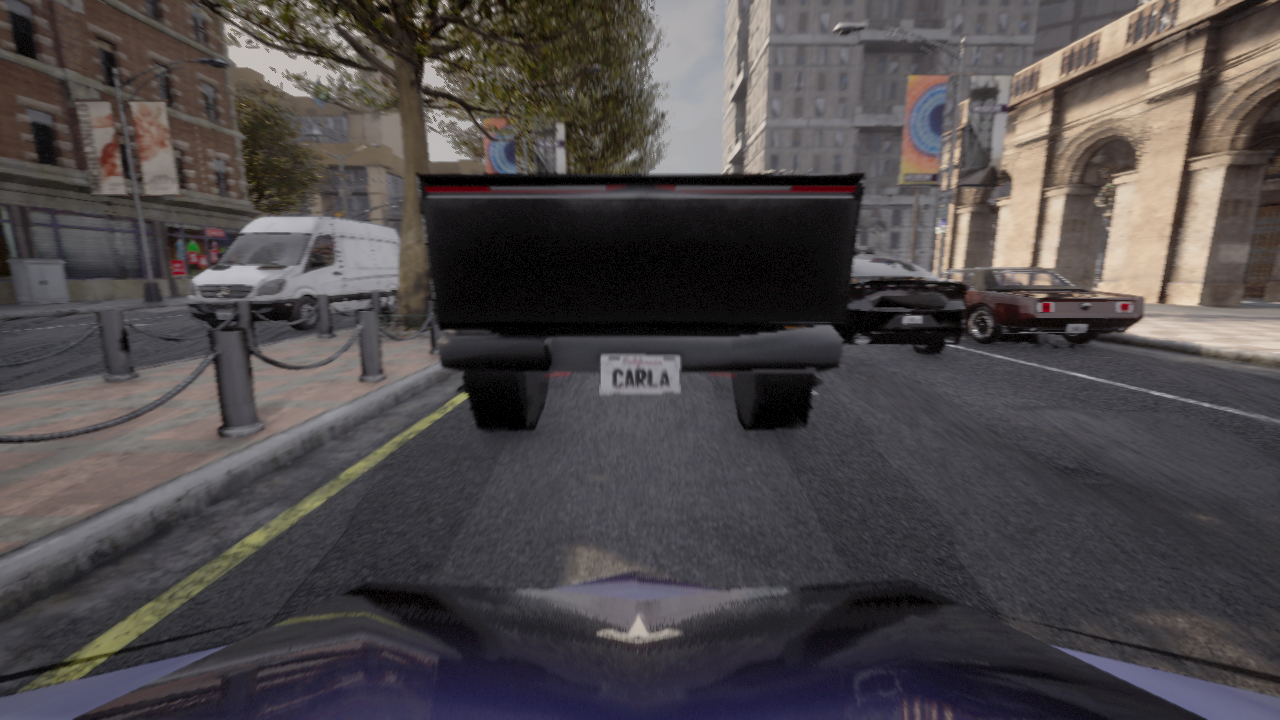cyclist: (0, 569, 1279, 719), (417, 173, 865, 431), (187, 216, 400, 330), (938, 268, 1144, 343), (832, 248, 966, 353)
